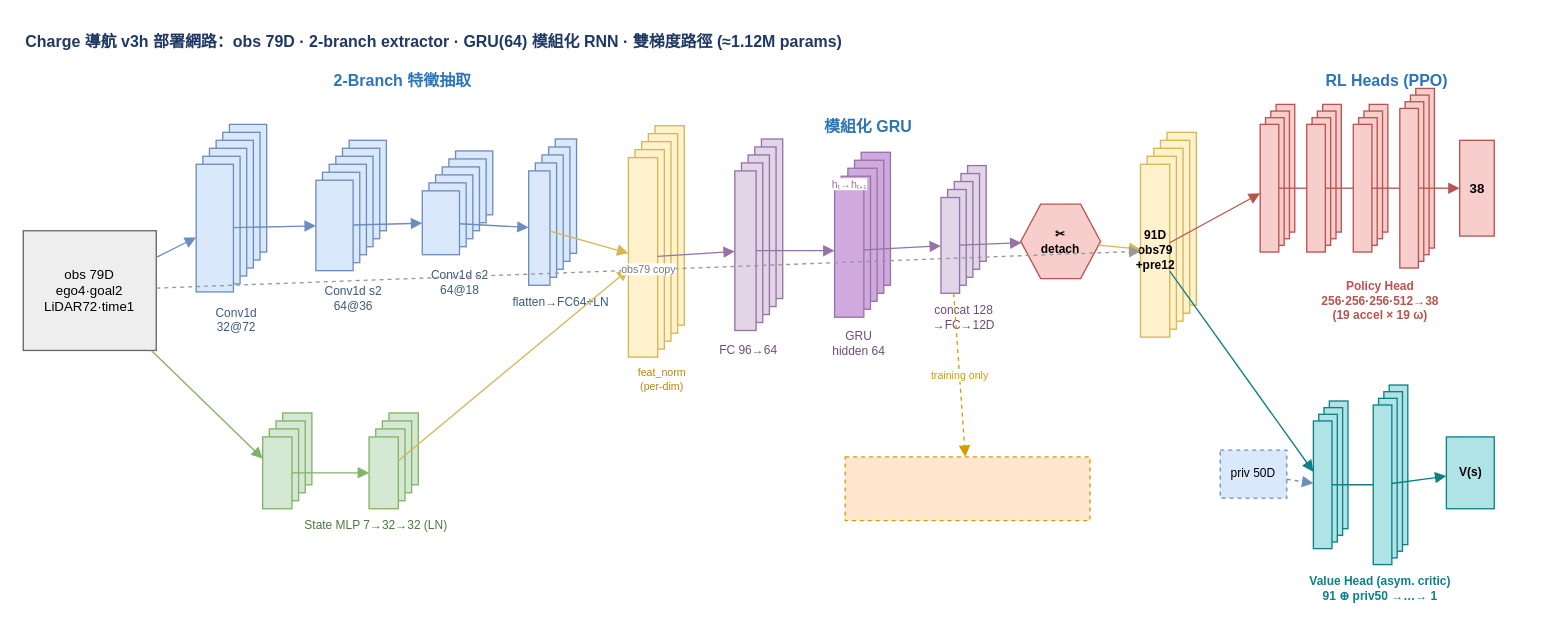
This 1563x628 diagram has some shape labels left out. Here are the shapes that lost their labels. From the top down, the box of each, then its label:
(627, 156, 658, 357): 96D
(833, 183, 864, 317): GRU 64
(844, 456, 1090, 521): predict_head 12→7D （特權幾何位置·aux 只訓 GRU）
